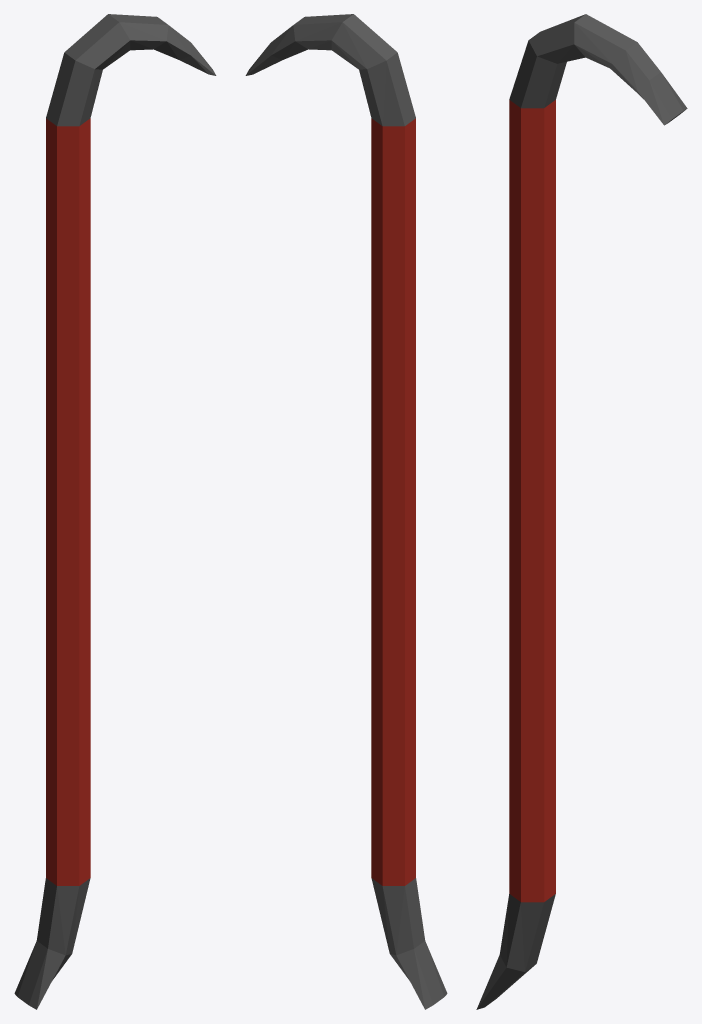
Rendered from Crowbar_vc.fbx.
The picture shows the model from 3 angles, left to right: view 1: azimuth 30°, elevation 25°; view 2: azimuth 150°, elevation 25°; view 3: azimuth 330°, elevation 25°; orthographic projection. The views are drawn at different scales.
Visible parts, largest first — view 1: Crowbar_vc; view 2: Crowbar_vc; view 3: Crowbar_vc.
Boxes of the visible parts, <box> form: Crowbar_vc: <box>14,14,216,1009</box>; Crowbar_vc: <box>245,14,447,1009</box>; Crowbar_vc: <box>476,14,687,1009</box>.
Bounding box in the file's own units: 10.66 × 53.31 × 2.24.
